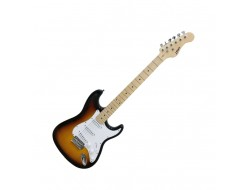ElectricGuitar: (47, 30, 200, 170)
